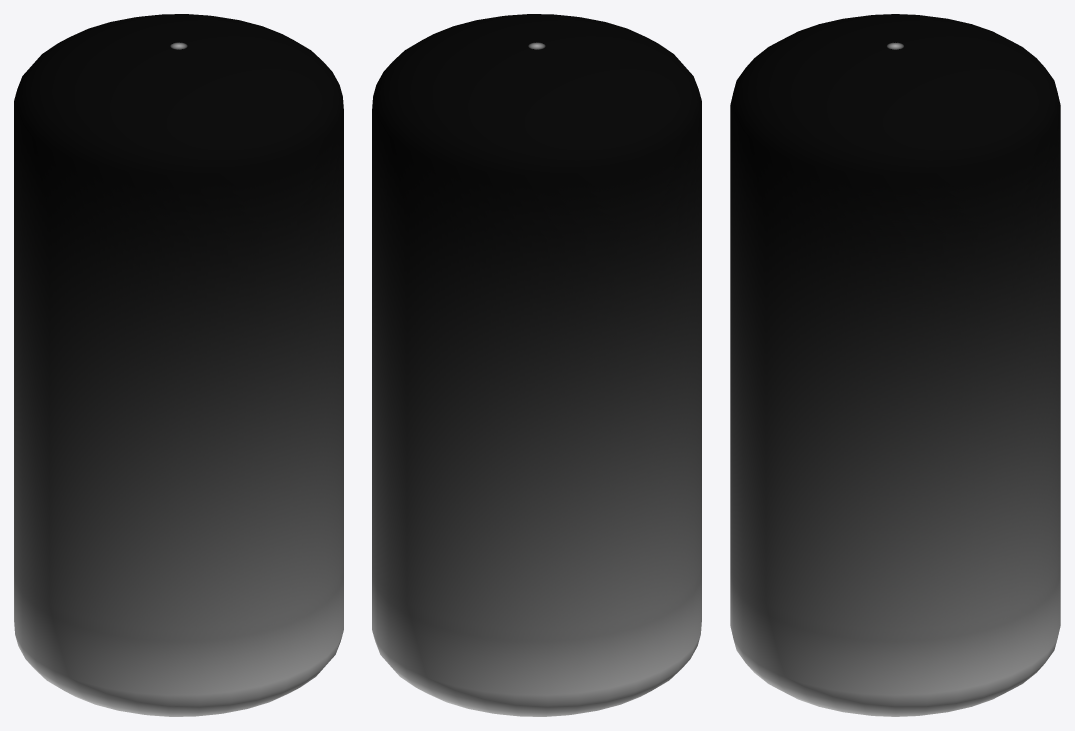
File: elevator.fbx
3 renders of one model, left to right at view 1: azimuth 30°, elevation 25°; view 2: azimuth 150°, elevation 25°; view 3: azimuth 270°, elevation 25°, orthographic.
Parts seen in each view (by area): view 1: Sphere; view 2: Sphere; view 3: Sphere.
Boxes of the visible parts, x1,y1,x2,y2 form: Sphere: (14, 14, 343, 716); Sphere: (372, 14, 701, 716); Sphere: (730, 14, 1060, 716).
Bounding box in the file's own units: 200 × 427 × 200.
